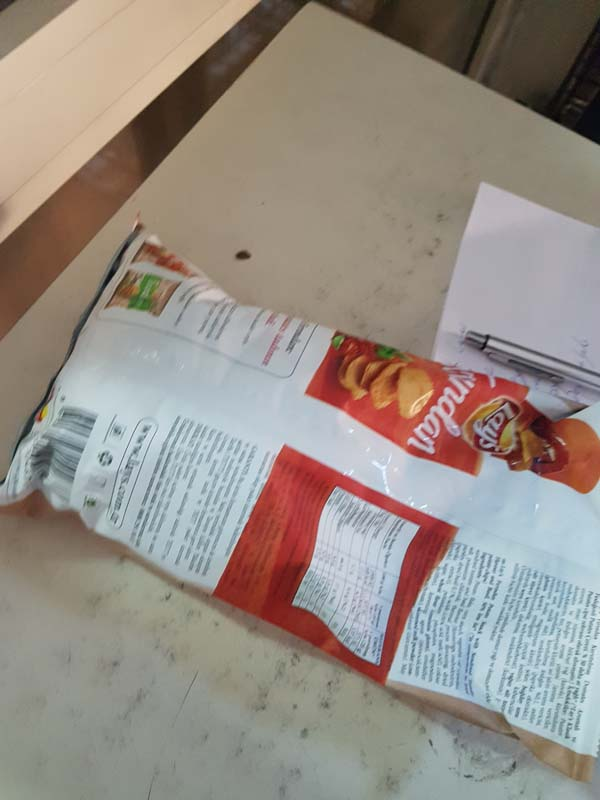laysfirindan: (7, 209, 600, 768)
